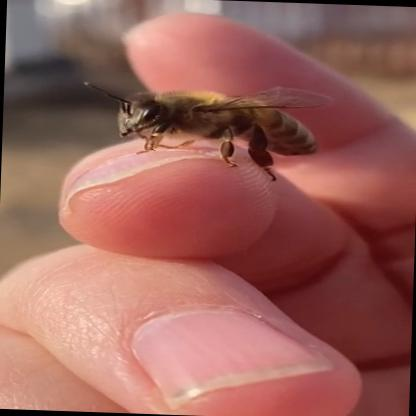bee: (56, 41, 346, 182)
